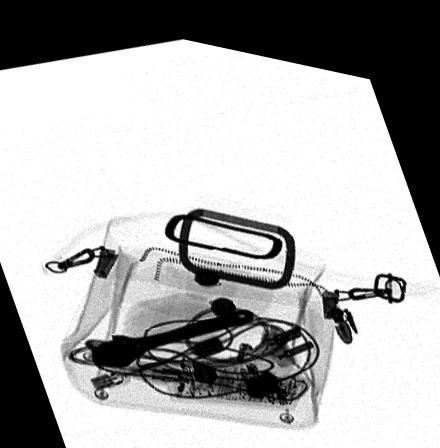Wrench: (87, 295, 254, 362)
